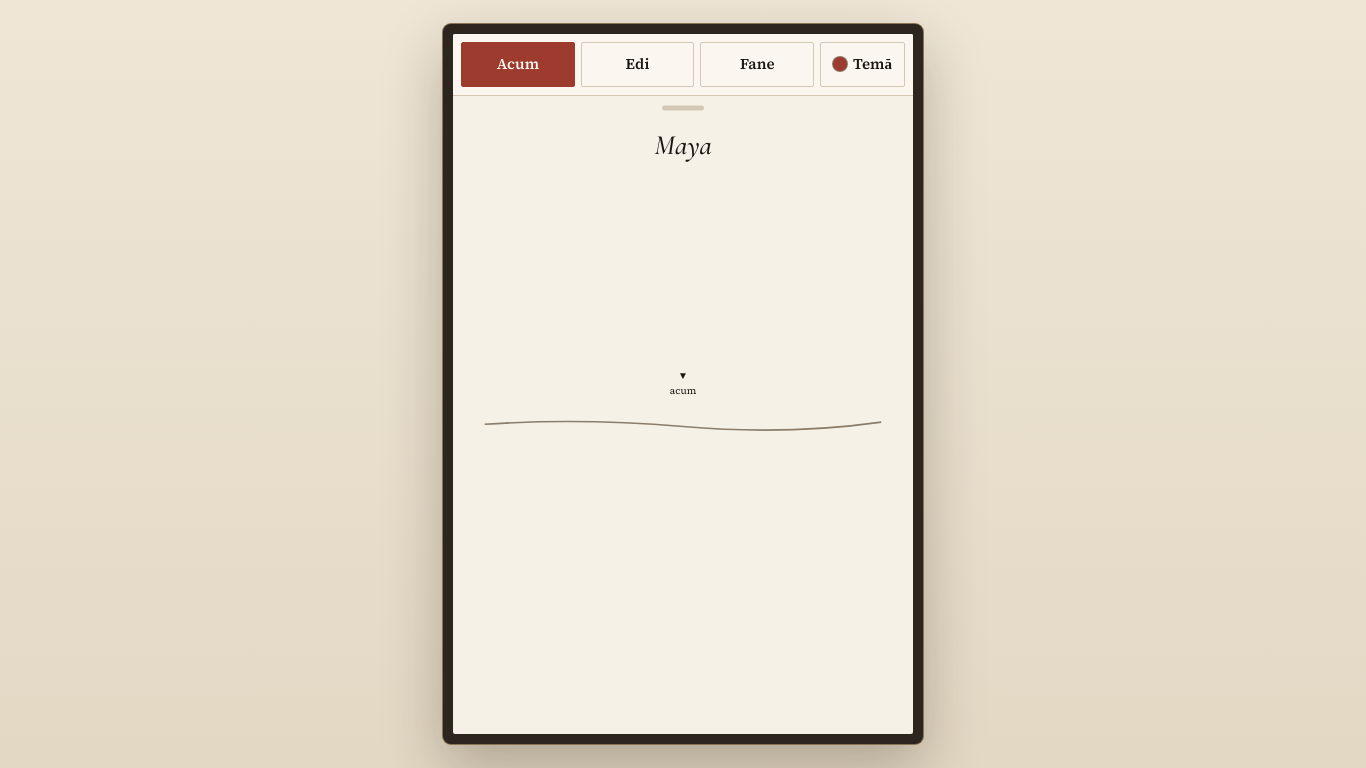
Test: design variant switch › changes the screen when a variant tab is clicked
Click the tab "Fane": (757, 64) x1=700 y1=42 x2=814 y2=86
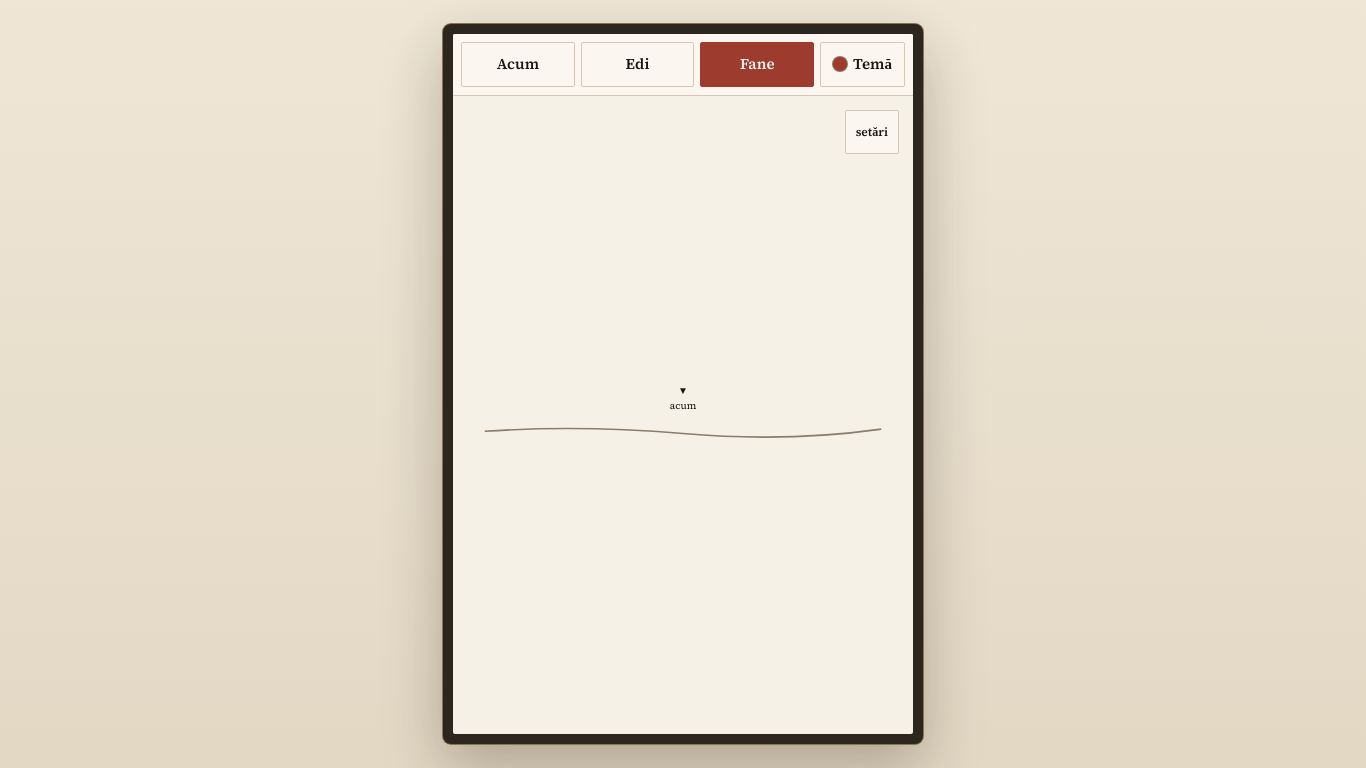
Result: the button with aria-label "setări tratament" is shown at x1=845 y1=110 x2=899 y2=154
Click the tab "Edi": (638, 64) x1=581 y1=42 x2=694 y2=86
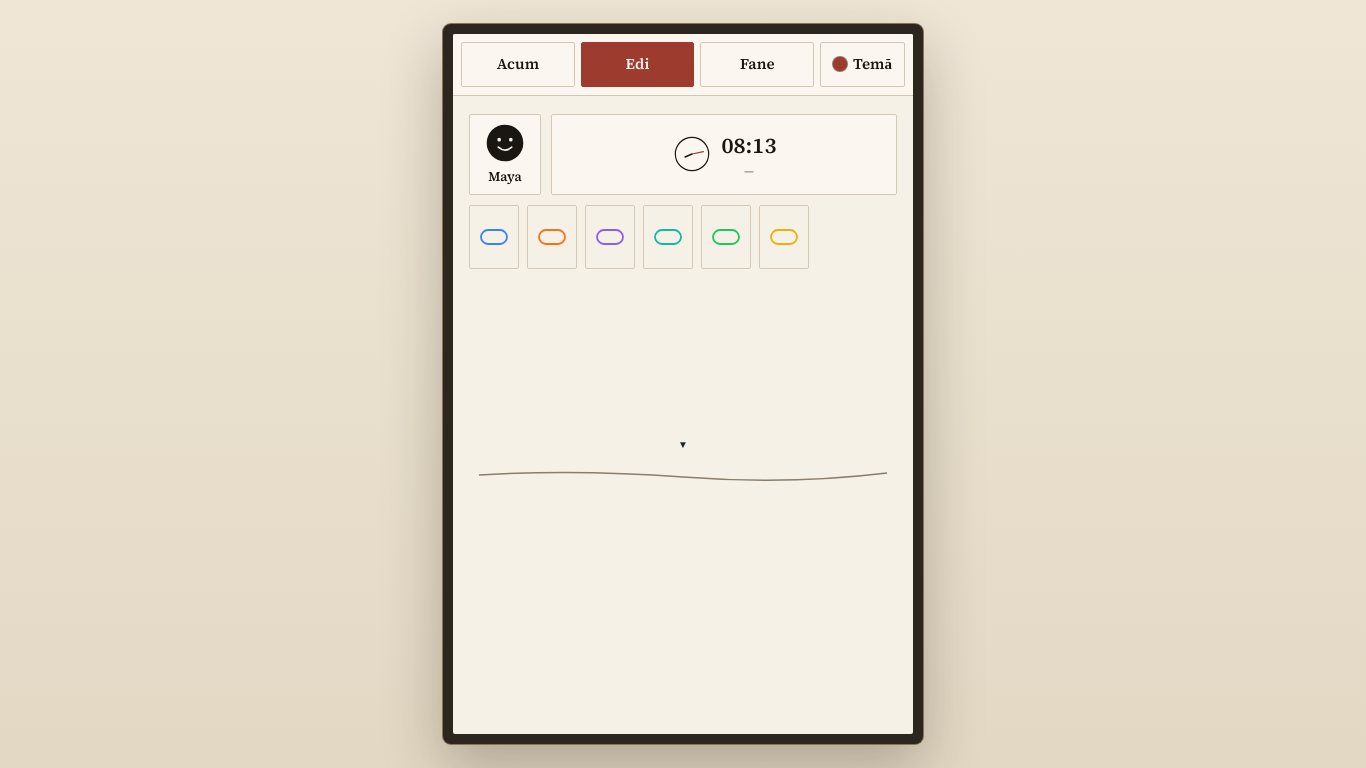
Result: the button with aria-label "copil maya" is shown at x1=469 y1=114 x2=541 y2=195
Click the tab "Acum": (518, 64) x1=461 y1=42 x2=575 y2=86
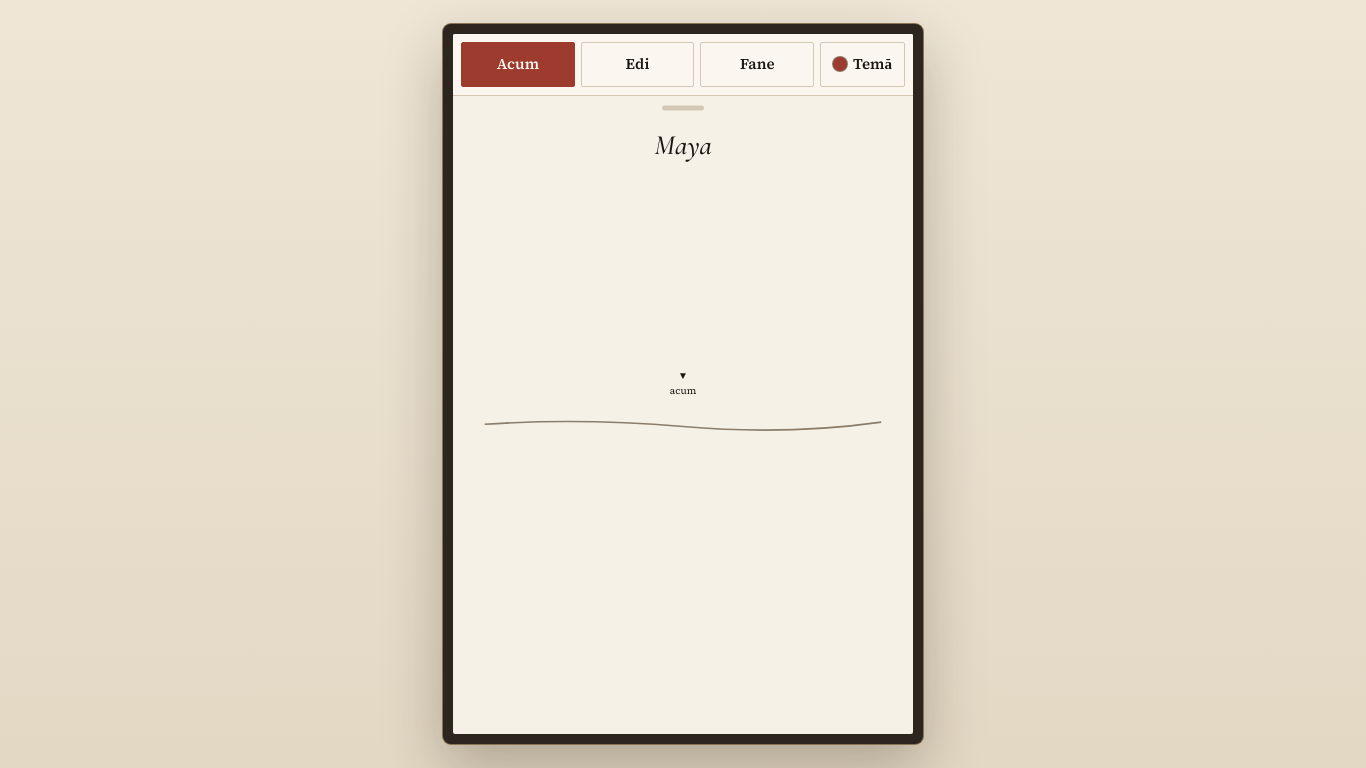
Result: the button named "copii și medicamente" is shown at x1=651 y1=96 x2=715 y2=130
